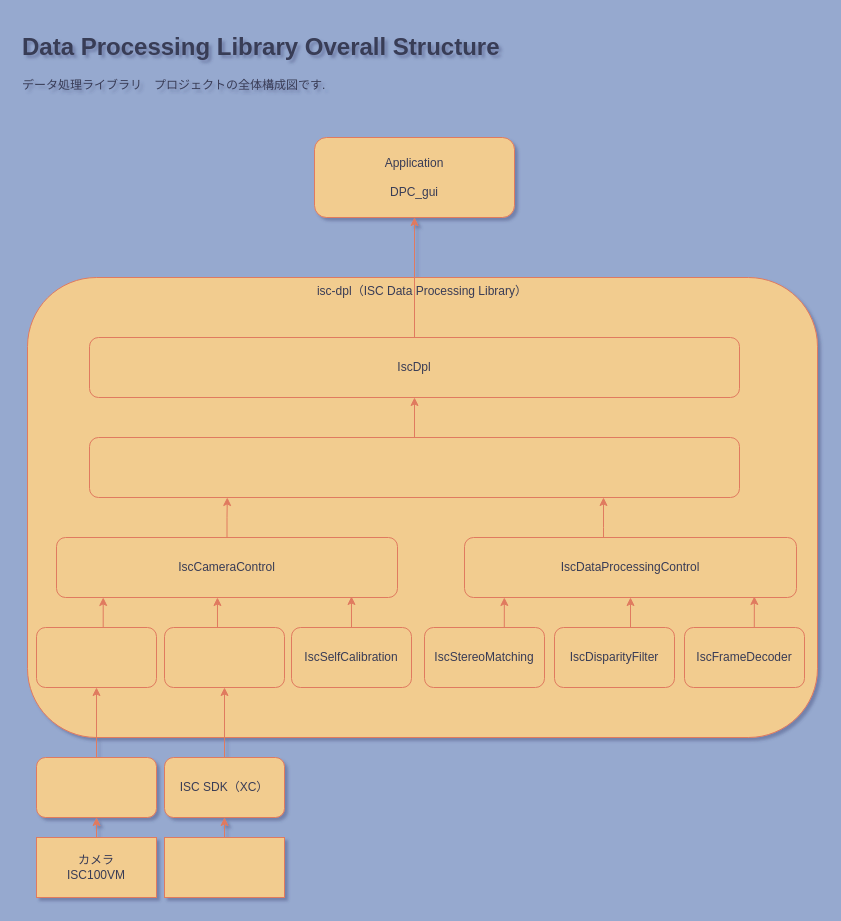
This 841x921 diagram has some shape labels left out. The shapes that lost their labels are listed below. From the top down, each one's box as (x1, y1, x2, y2) in pixels, then its label:
(88, 436, 740, 498): IscDplMainControl
(36, 626, 156, 688): VmSdkWrapper
(164, 626, 284, 688): XcSdkWrapper
(36, 756, 156, 818): ISC SDK（VM）
(164, 836, 284, 898): カメラ ISC100XC
